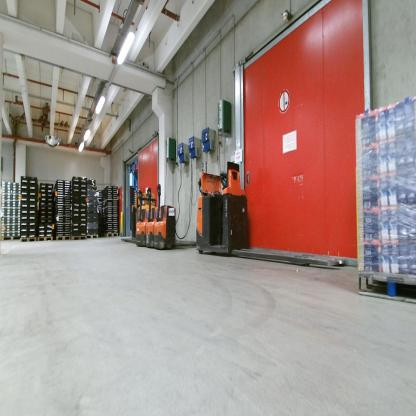pallet: (0, 235, 22, 243), (20, 236, 38, 245), (70, 233, 87, 242), (55, 234, 72, 243), (101, 231, 118, 239), (37, 235, 54, 243), (87, 233, 100, 241)
pallet_truck: (193, 162, 346, 275), (152, 182, 198, 251), (133, 184, 159, 248), (143, 179, 162, 251)
